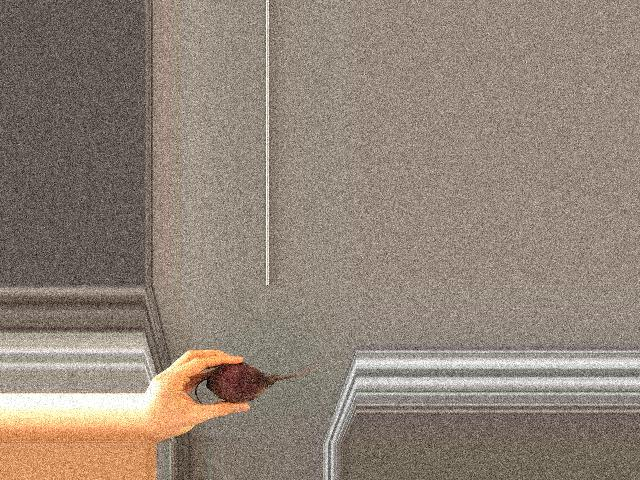beet: (196, 363, 321, 404)
